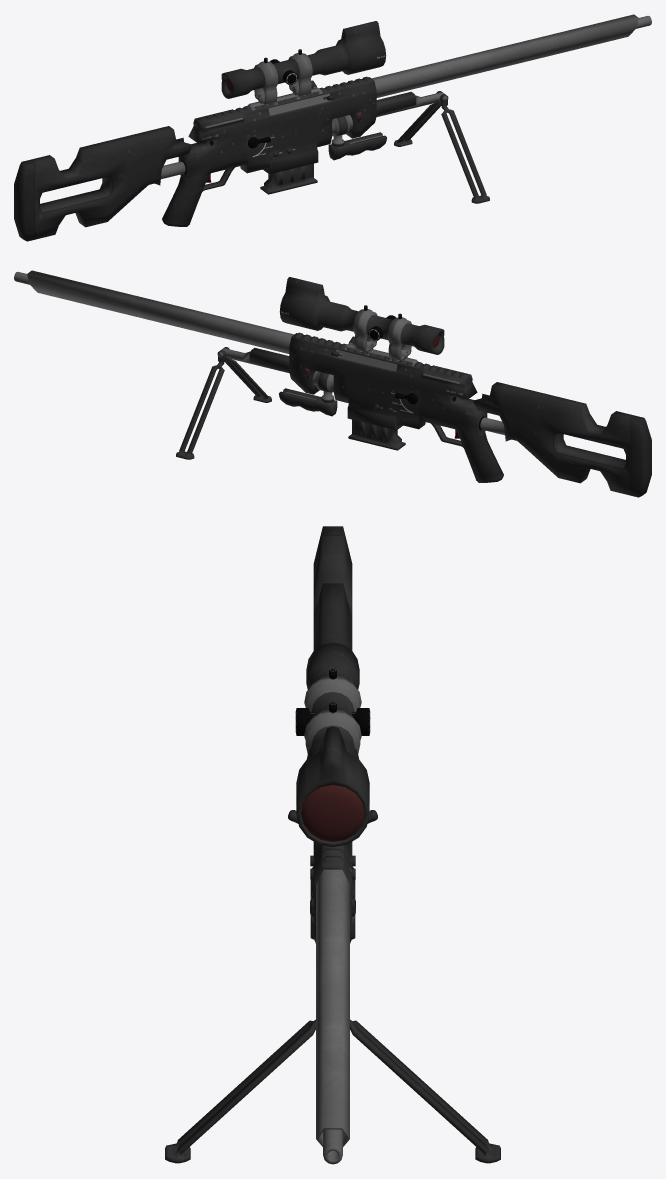
The model's file is sniper1.glb.
3 views of the same model, one above another, from view 1: azimuth 30°, elevation 25°; view 2: azimuth 150°, elevation 25°; view 3: azimuth 270°, elevation 25° (orthographic). The views are drawn at different scales.
Visible parts, largest first — view 1: Chas_low, Barrel_low, Scope_low, Dec2_low, Dec4_low, Dec1_low, UpPart_low, Grip_low; view 2: Chas_low, Barrel_low, Scope_low, Dec2_low, Dec4_low, Dec1_low, UpPart_low, Grip_low; view 3: Barrel_low, Scope_low, Chas_low, Dec2_low, ScopeGlass_low, Dec4_low.
Part boxes in pixels (x1,y1,x2,y2): Chas_low: (14,77,376,241); Barrel_low: (371,14,638,97); Scope_low: (221,21,386,104); Dec2_low: (260,91,489,203); Dec4_low: (161,49,361,179); Dec1_low: (331,91,444,147); UpPart_low: (248,87,331,115); Grip_low: (198,76,371,122); Chas_low: (289,333,651,497); Barrel_low: (27,270,294,353); Scope_low: (279,277,444,360); Dec2_low: (176,347,405,459); Dec4_low: (304,305,504,435); Dec1_low: (221,347,334,403); UpPart_low: (334,343,417,371); Grip_low: (294,332,467,378); Barrel_low: (316,869,349,1146); Scope_low: (296,642,369,847); Chas_low: (310,526,355,943); Dec2_low: (165,1019,500,1163); ScopeGlass_low: (301,785,364,841); Dec4_low: (288,668,377,923).
Size of the model in its own units: 2 by 0.5037 by 0.4606.
11 materials, 11 textured.
